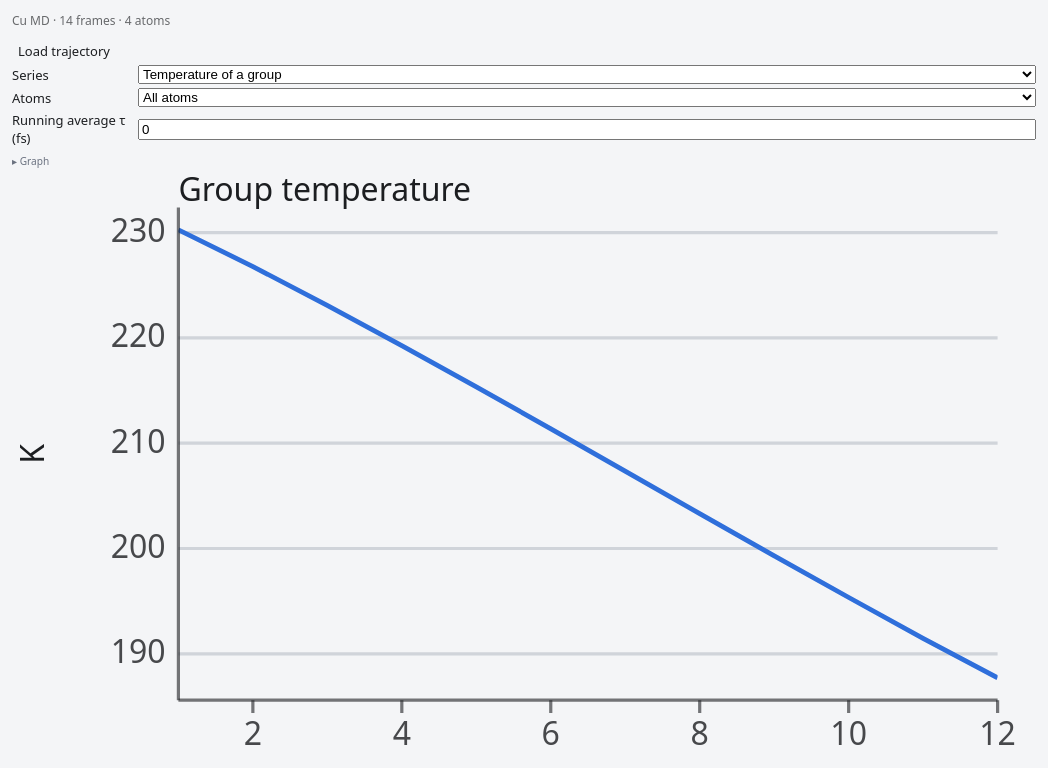
it: plots a mode and grows the inputs its kind needs
Select "Internal coordinate / mode" in the dropdown labelled "Series" at (587, 74), box x1=138 y1=65 x2=1036 y2=84
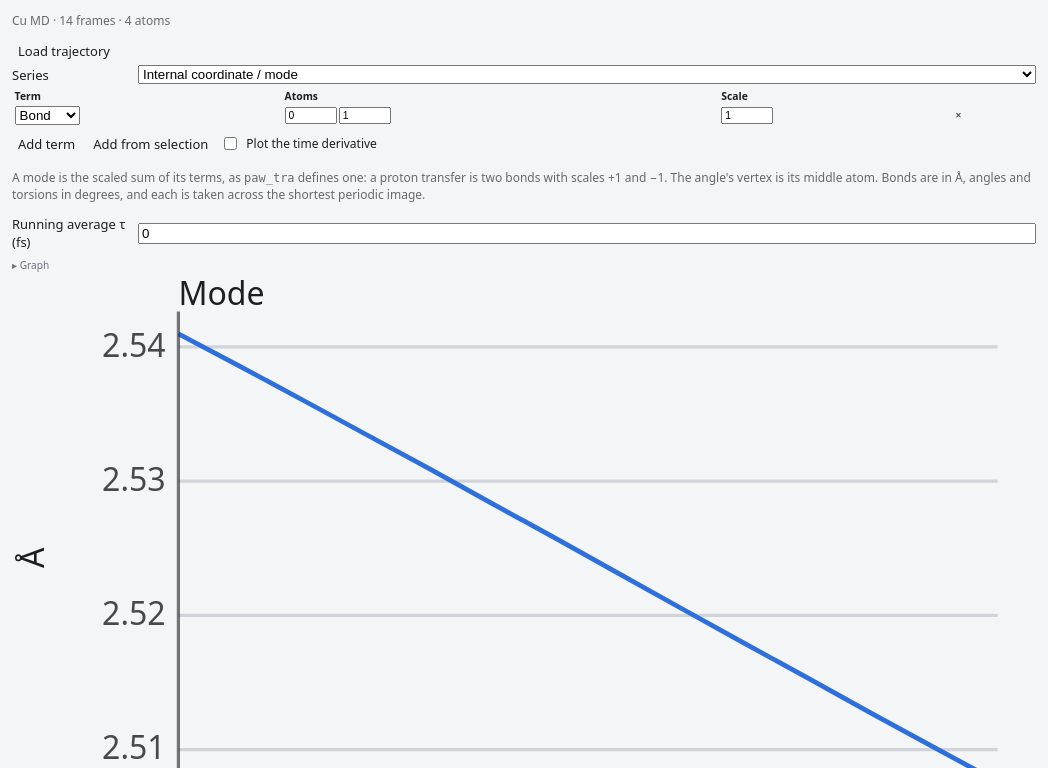
Expected: the number field named "Term 1 atom 2" is shown, x1=339 y1=107 x2=391 y2=124
Select "Torsion" in the dropdown named "Term 1 kind" at (47, 115), box x1=15 y1=106 x2=80 y2=125
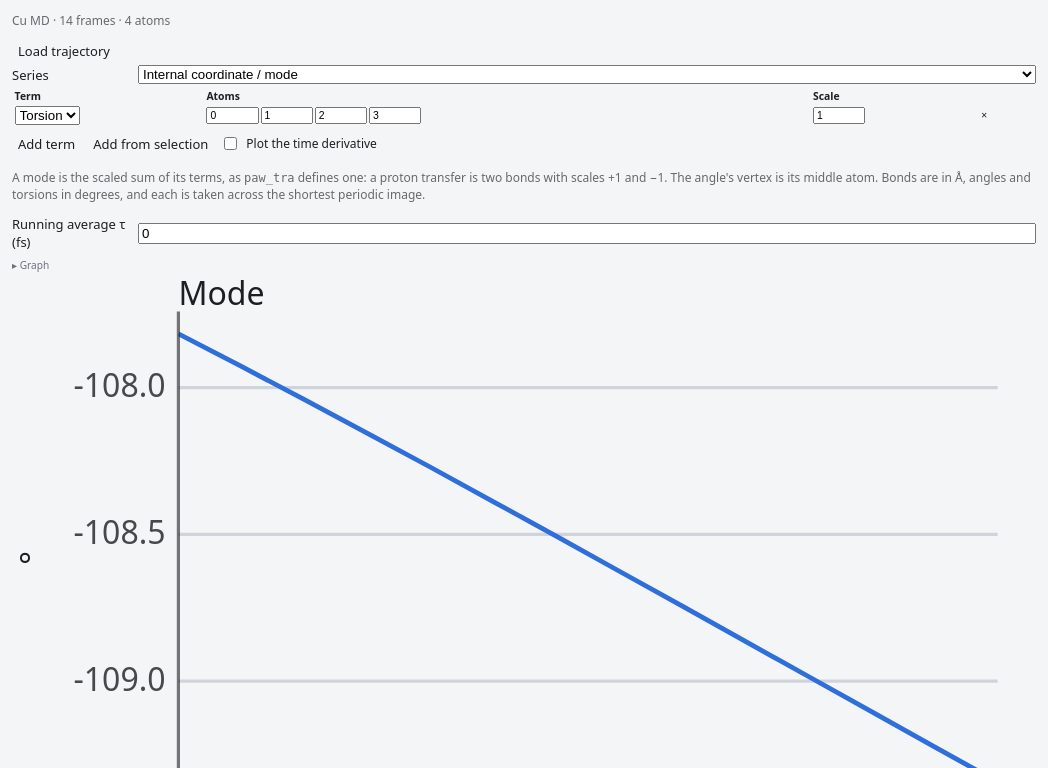
Expected: the number field named "Term 1 atom 4" is shown, x1=369 y1=107 x2=421 y2=124
